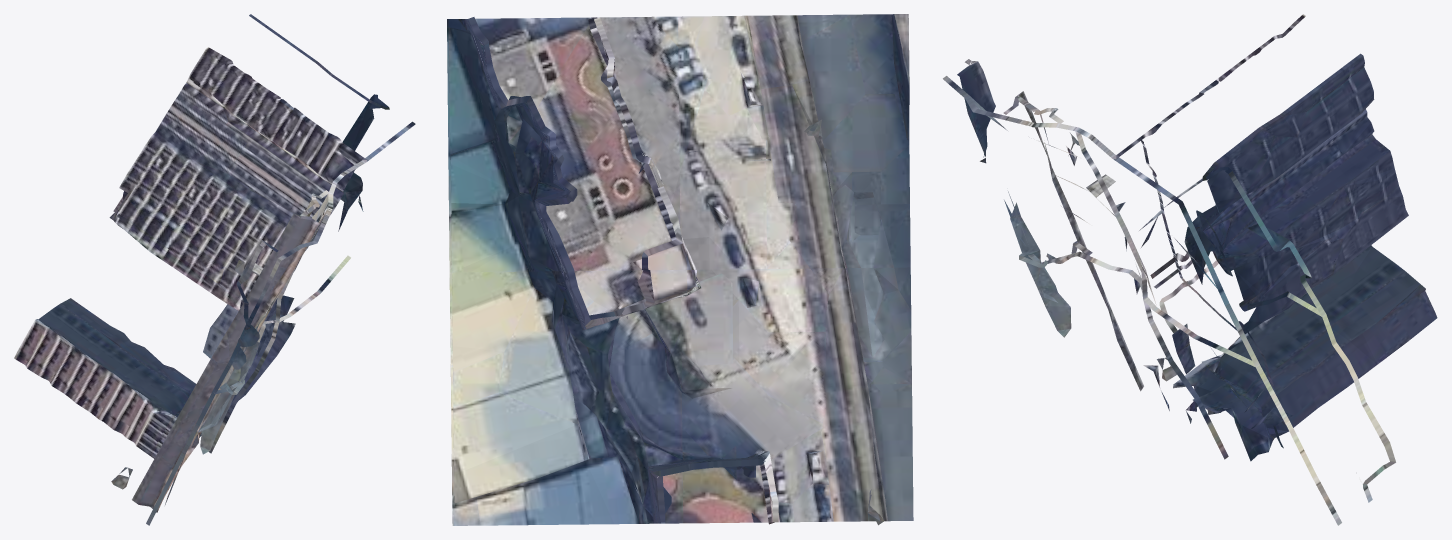
3 renders of one model, left to right at view 1: azimuth 30°, elevation 25°; view 2: azimuth 150°, elevation 25°; view 3: azimuth 270°, elevation 25°, orthographic. The views are drawn at different scales.
Bounding box in the file's own units: 77.95 × 89.84 × 85.25.
Materials: 1 (1 with a texture image).
